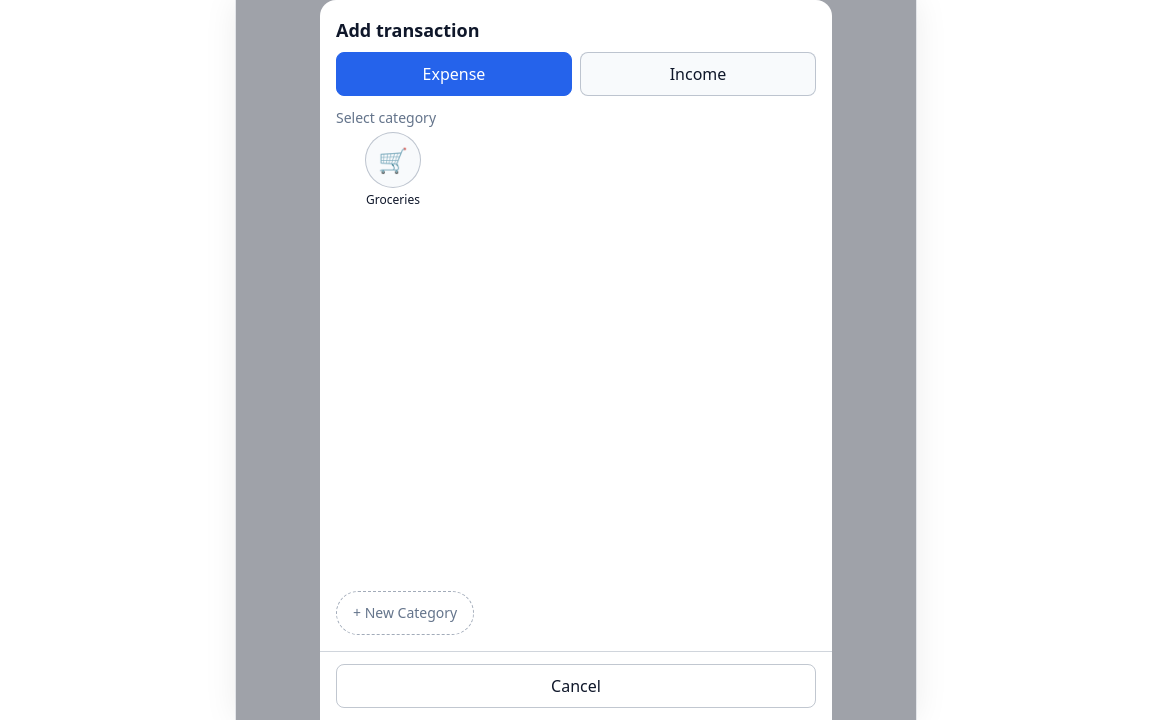
Test: TransactionSheet › hides categories of the other type and switches on type change
This screenshot has width=1152, height=720.
Expected: the button "Salary" is not shown
Click the button "income". click: (698, 74)
box: 580,52 -> 816,96
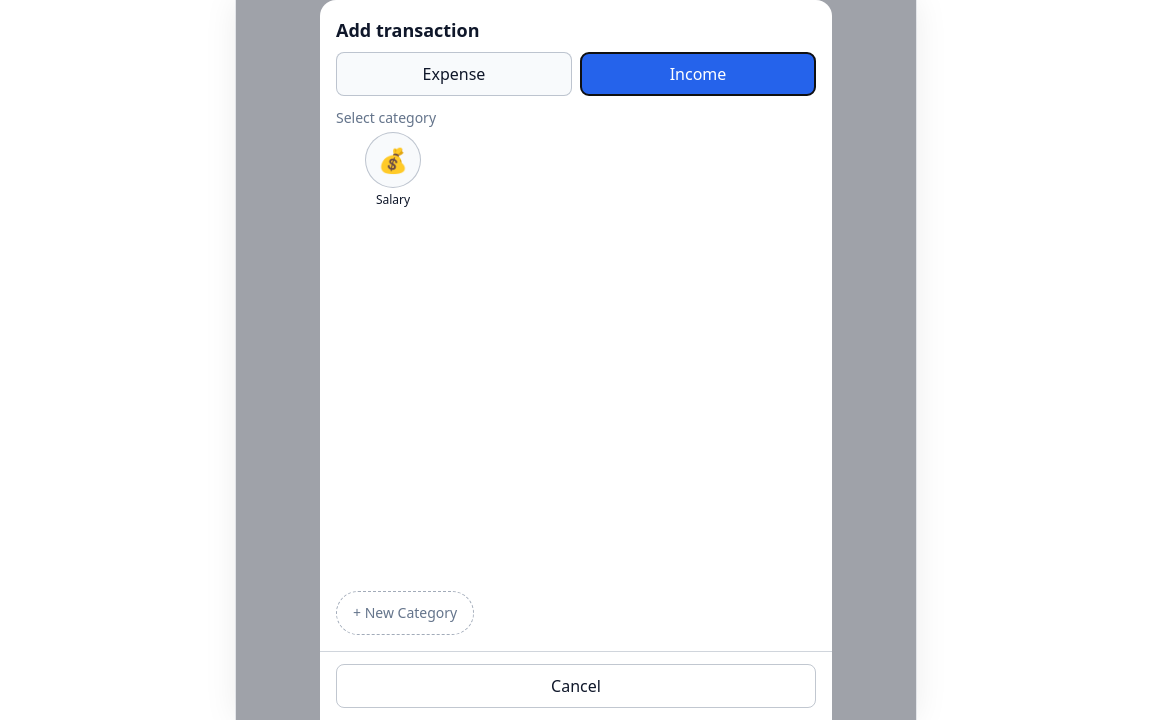
Now the button "💰 Salary" is shown, box 336,132 -> 450,208
Now the button "Groceries" is gone
